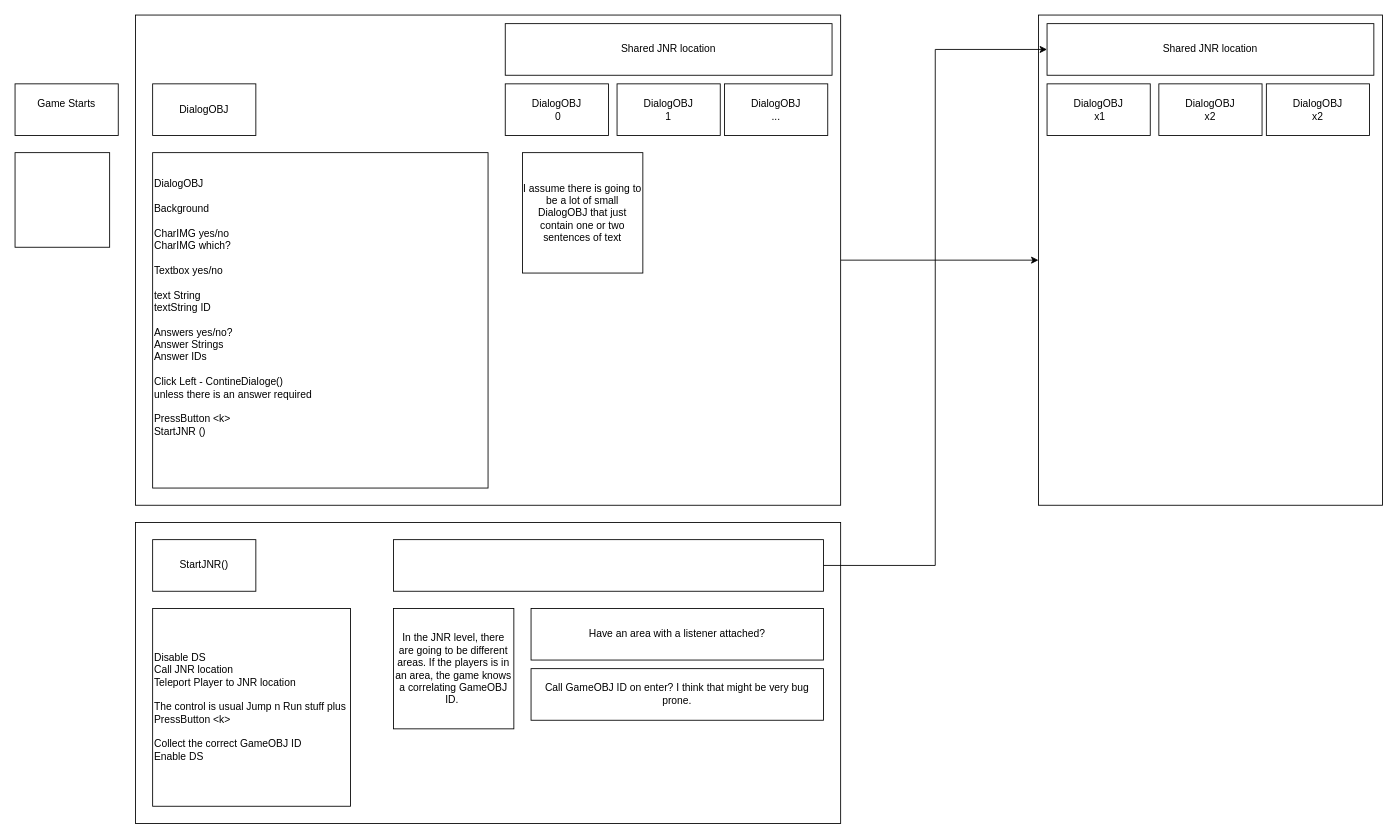
Some shapes in this 1398 by 839 pixel diagram are drawn without their labels. The centre of each missing label's shape, as x and y in pixels:
"Depending on called GameOBJ ID" goes at pixel 608 565.
"Initiate all gamestart stuff JNR level DS" goes at pixel 62 199.
